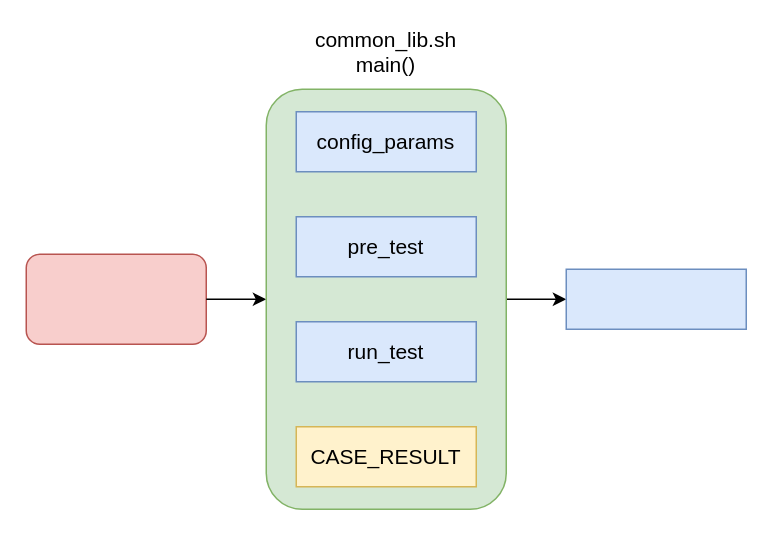
The diagram is 773 pixels wide and 536 high, and some of its shapes have lost their labels. The shapes that lost their labels are listed below. From the top down, each one's centre as x and y in pixels, then its label:
At pixel 115 298: "testcase.sh".
At pixel 655 298: "post_test (trap)".
